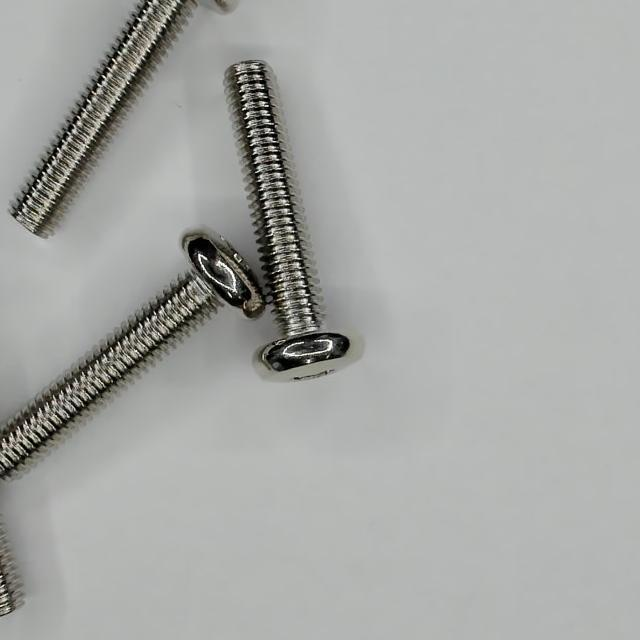Screw: (0, 231, 266, 480), (10, 0, 238, 238), (225, 60, 350, 372)
